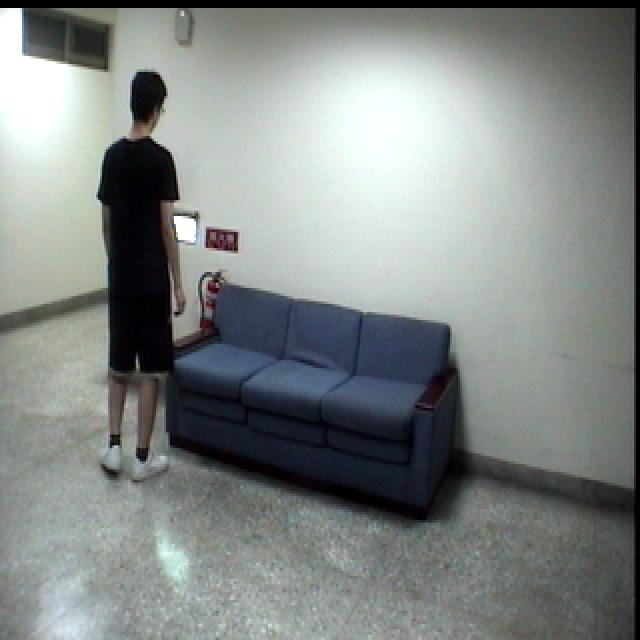stand: (94, 63, 196, 493)
